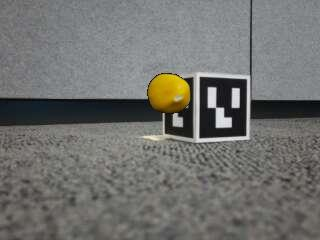lemon: (148, 74, 189, 113)
